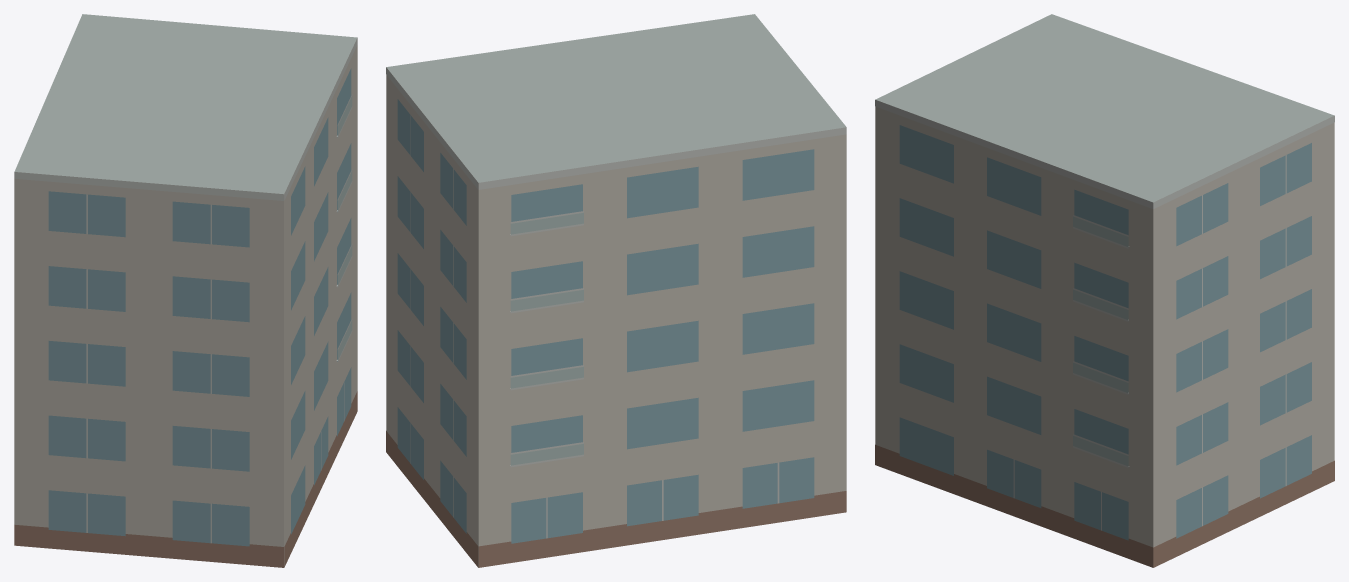
Rendered from survey-upis-32524224.glb.
3 renders of one model, left to right at view 1: azimuth 30°, elevation 25°; view 2: azimuth 150°, elevation 25°; view 3: azimuth 270°, elevation 25°, orthographic. The views are drawn at different scales.
Visible parts, largest first — view 1: survey-upis-32524224.tmp; view 2: survey-upis-32524224.tmp; view 3: survey-upis-32524224.tmp.
Part boxes in pixels (box(x1,y1,x2,y2)): survey-upis-32524224.tmp: box(14, 14, 357, 567); survey-upis-32524224.tmp: box(386, 14, 846, 567); survey-upis-32524224.tmp: box(875, 14, 1334, 567).
Bounding box in the file's own units: 14.61 × 13.2 × 15.06.
